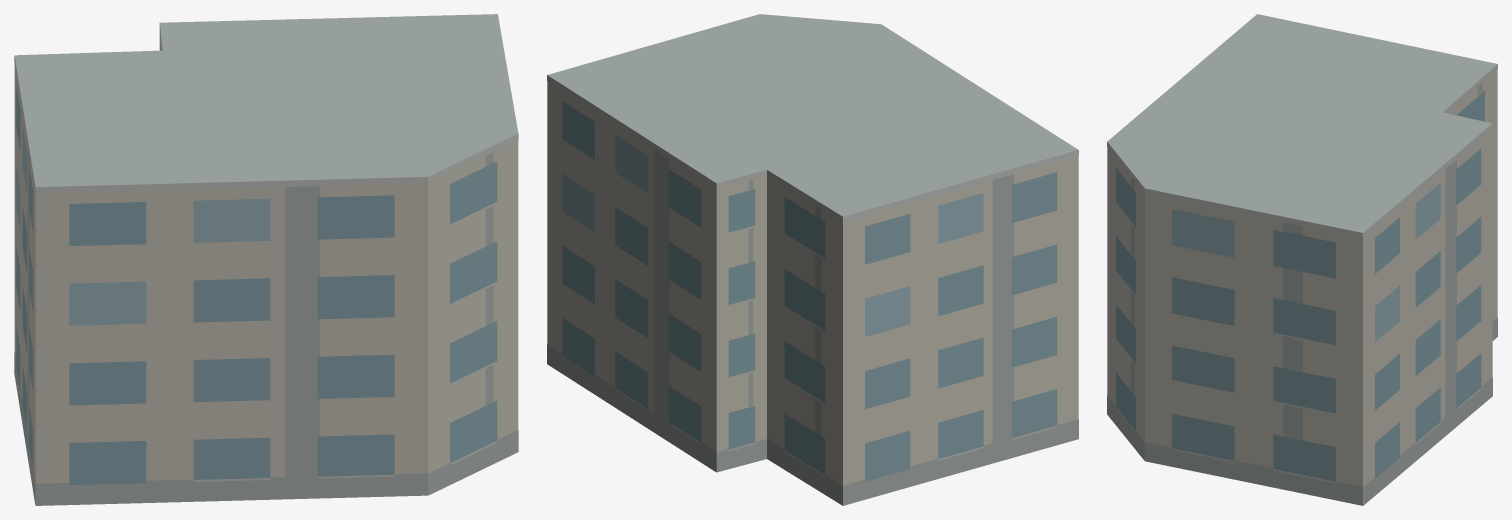
The model's file is residential-d84a9a34-2d8e-43f0-9281-d6f38fdde485.glb.
3 views of the same model, side by side, from view 1: azimuth 30°, elevation 25°; view 2: azimuth 150°, elevation 25°; view 3: azimuth 270°, elevation 25° (orthographic). The views are drawn at different scales.
Parts seen in each view (by area): view 1: residential-d84a9a34-2d8e-43f0-9281-d6f38fdde485.tmp; view 2: residential-d84a9a34-2d8e-43f0-9281-d6f38fdde485.tmp; view 3: residential-d84a9a34-2d8e-43f0-9281-d6f38fdde485.tmp.
Part boxes in pixels (x1=…): residential-d84a9a34-2d8e-43f0-9281-d6f38fdde485.tmp: x1=14, y1=14, x2=518, y2=505; residential-d84a9a34-2d8e-43f0-9281-d6f38fdde485.tmp: x1=547, y1=14, x2=1078, y2=505; residential-d84a9a34-2d8e-43f0-9281-d6f38fdde485.tmp: x1=1107, y1=14, x2=1497, y2=505.
Bounding box in the file's own units: 20.66 × 12 × 15.57.
